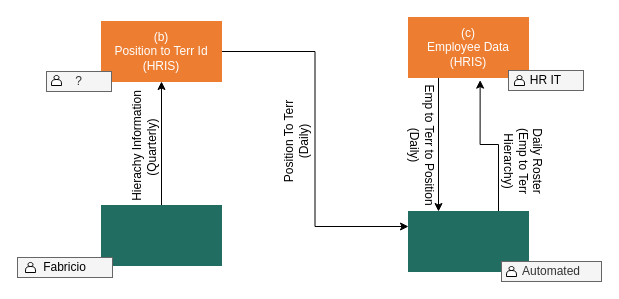
Image size: 619x299. Some labels were removed from this diagram. The shapes that lost their labels are listed below. From the top down, each one's centre as x and y in pixels, then its label:
(161,235): (a) Hierarchy Information coming from SalesIQ
(468,241): (d) Terr to Employees in SalesIQ
